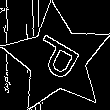P_SE: (26, 30, 88, 88)
